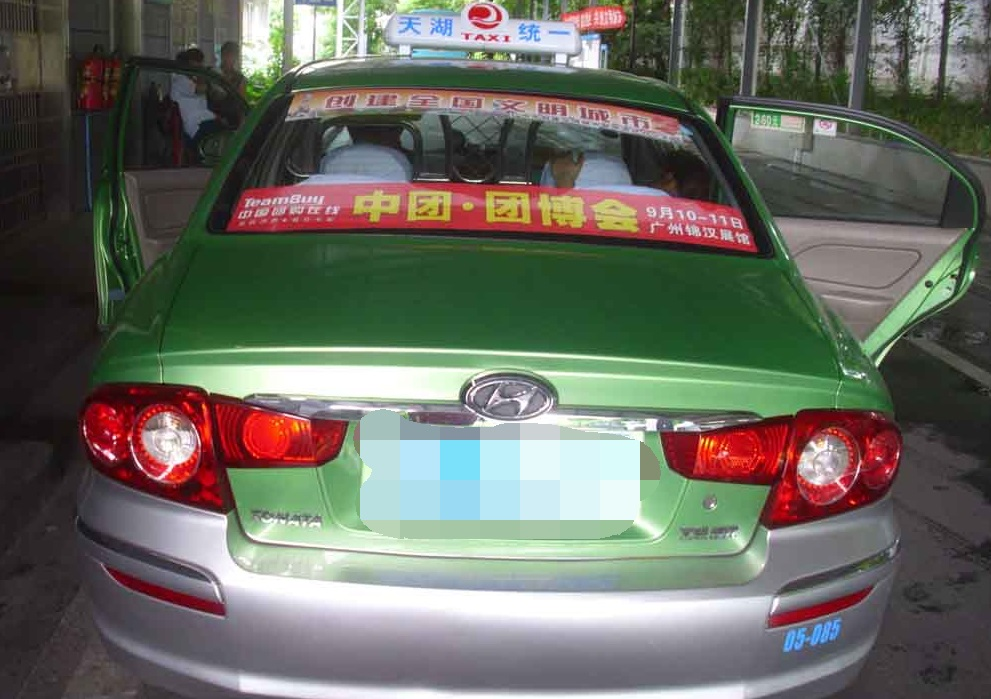taxi: (70, 3, 990, 699)
